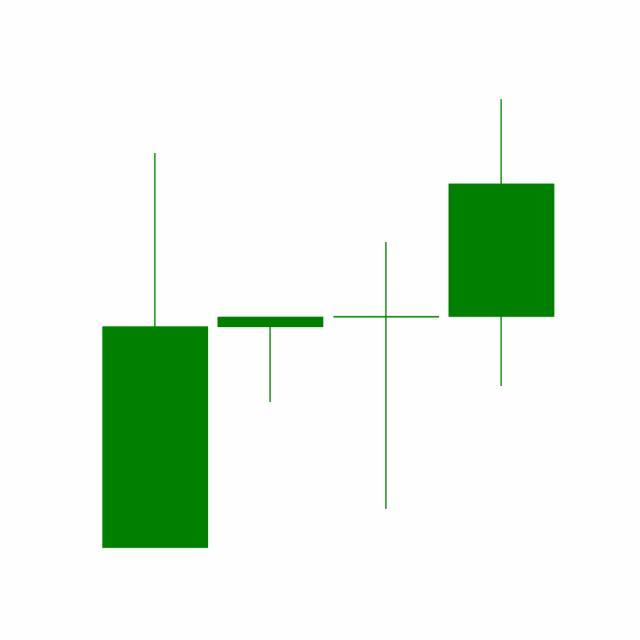Spinning Top: (329, 240, 445, 514)
